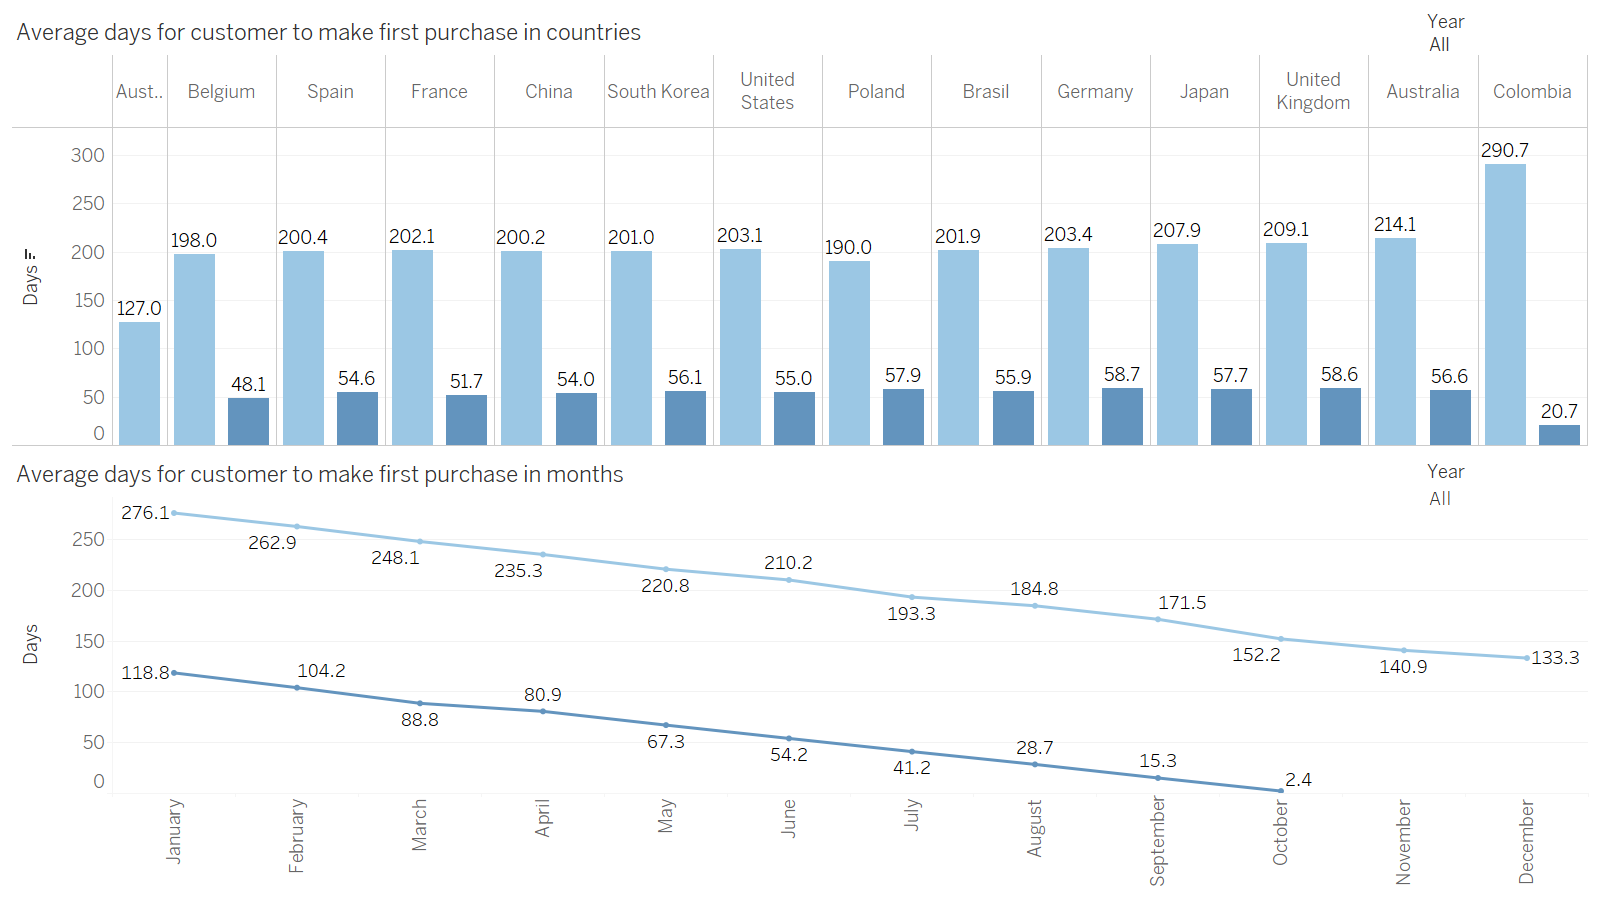

This screenshot's page, from the dashboard's own definition file:
{"tool":"tableau","page":{"name":"First Purchase","canvas":[1600,900],"ordinal":0},"visuals":[{"type":"worksheet","title":"Countries","mark":"Bar","rows":["Calculation_2662190352279609344"],"cols":["country","sign_up_date"],"box":[8,8,1584,442]},{"type":"filter","title":"Countries","param":"[federated.1x31xu61qa4mr21erhxu61gdps4f].[yr:sign_up_date:ok]","box":[1427,9,160,60]},{"type":"worksheet","title":"Months","mark":"Automatic","rows":["Calculation_1771603526001795072"],"cols":["sign_up_date"],"box":[8,450,1584,442]},{"type":"filter","title":"Months","param":"[federated.1x31xu61qa4mr21erhxu61gdps4f].[yr:sign_up_date:ok]","box":[1427,459,160,62]}]}

Visuals, with their boxes in screenshot pixels (x1, y1, x2, y2), scaled from the page's 1600x900 canvas onto the 1600x900 screenshot:
"Countries" worksheet (Bar marks): (x1=8, y1=8, x2=1592, y2=450)
"Countries" filter: (x1=1427, y1=9, x2=1587, y2=69)
"Months" worksheet: (x1=8, y1=450, x2=1592, y2=892)
"Months" filter: (x1=1427, y1=459, x2=1587, y2=521)
